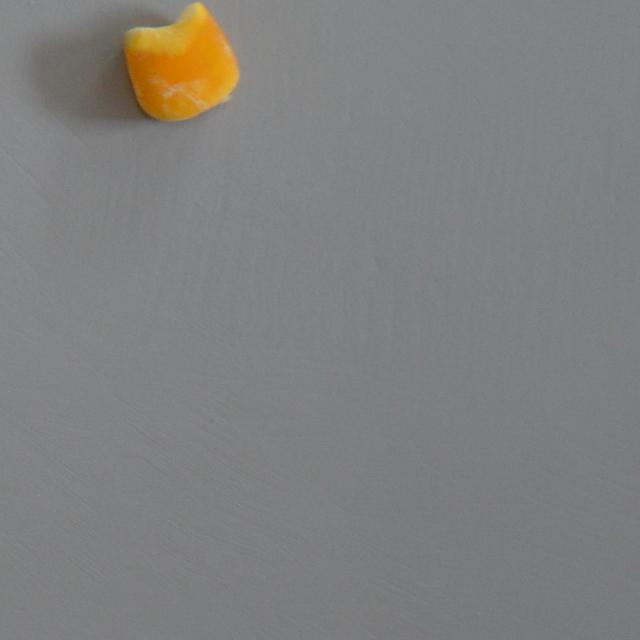dañado: (118, 0, 244, 130)
